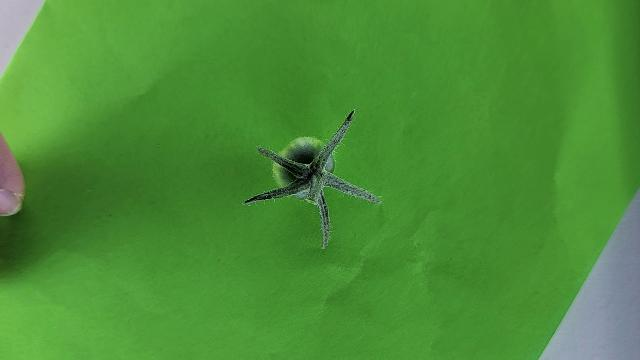Fruit Maturation: (272, 137, 333, 199)
